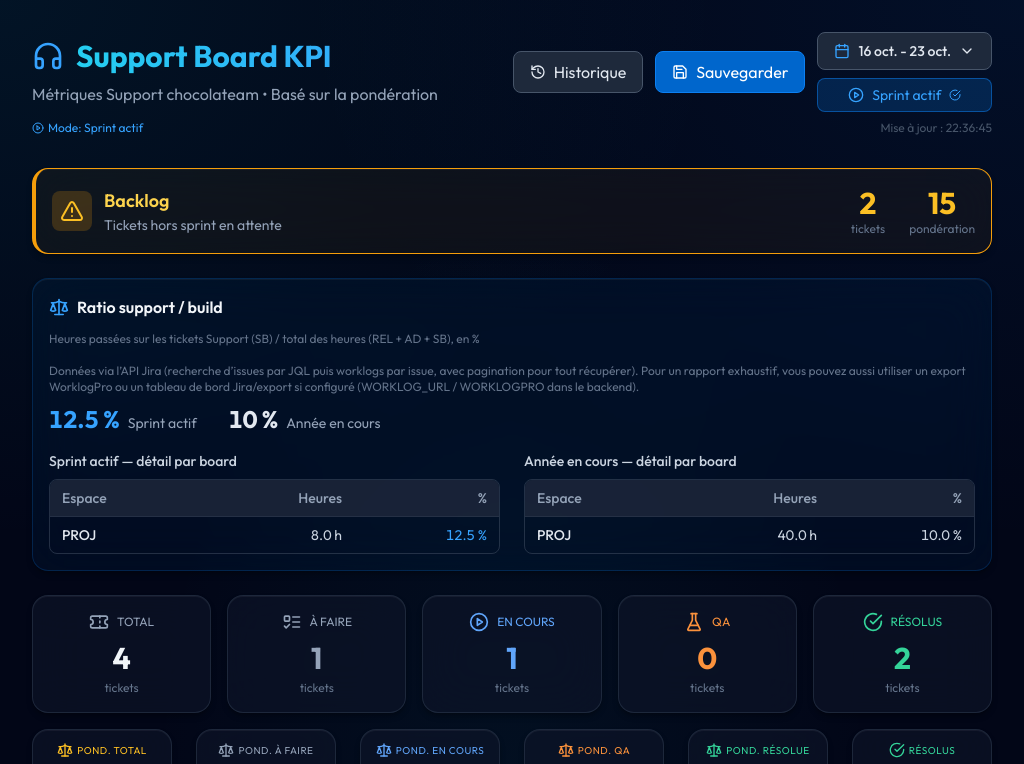
SupportDashboard › affiche l’historique vide quand aucun snapshot n’existe
Click the button "Historique": (578, 72) [513,51,643,93]
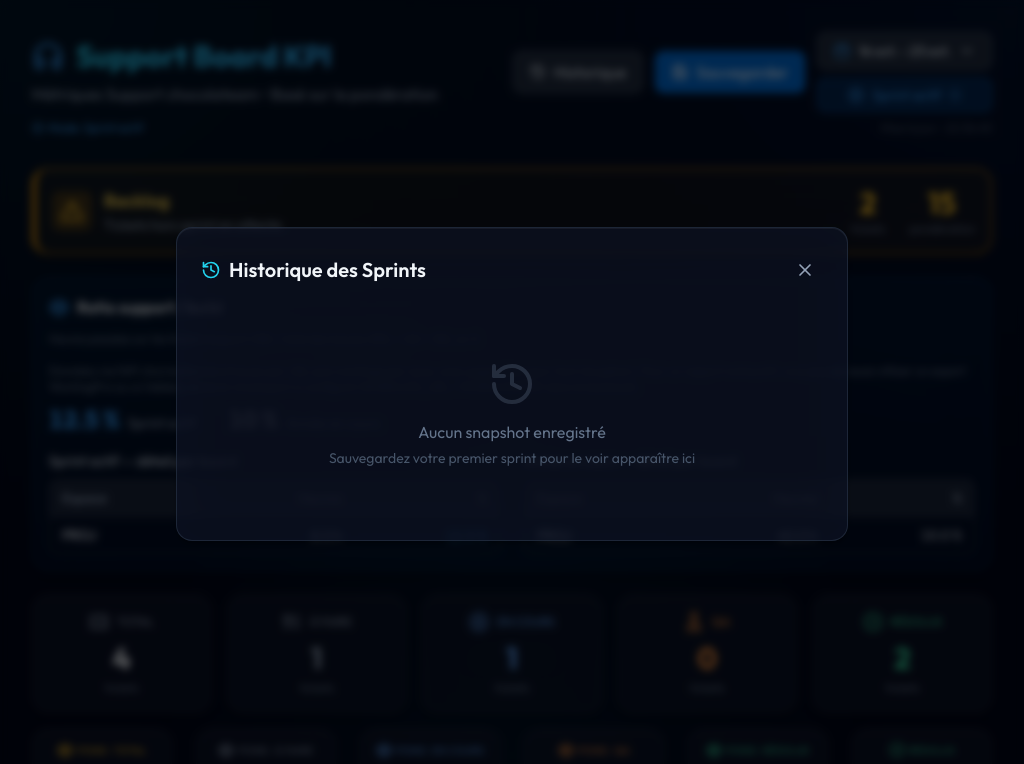
expect the text "Aucun snapshot enregistré" is shown: met, box [418,422,606,442]
